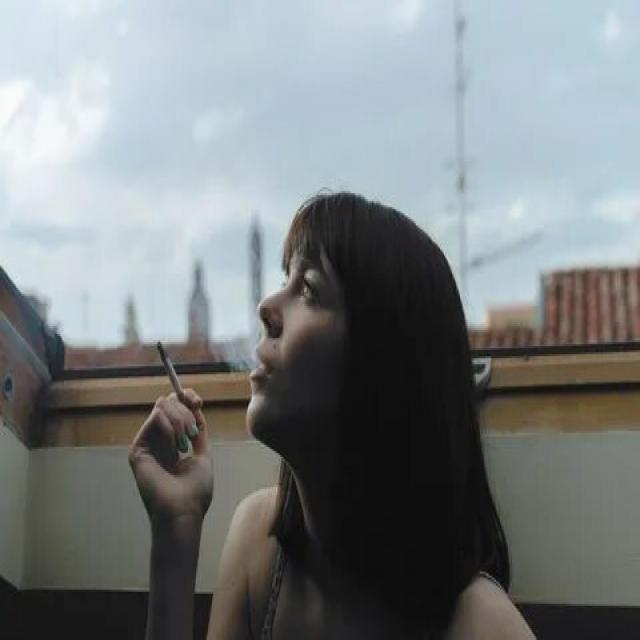smoke: (152, 338, 193, 409)
